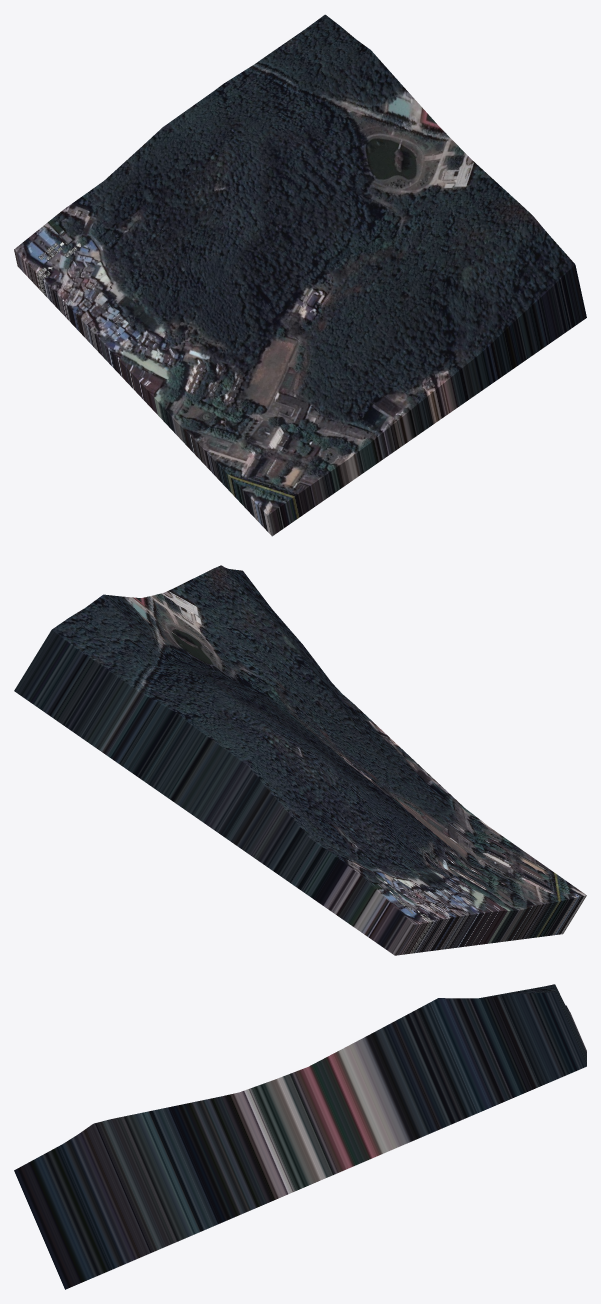
3 views of the same model, one above another, from view 1: azimuth 30°, elevation 25°; view 2: azimuth 150°, elevation 25°; view 3: azimuth 270°, elevation 25° (orthographic). The views are drawn at different scales.
Visible parts, largest first — view 1: 0_0_20; view 2: 0_0_20; view 3: 0_0_20.
Boxes of the visible parts, x1,y1,x2,y2 form: 0_0_20: (14, 14, 586, 536); 0_0_20: (14, 565, 586, 955); 0_0_20: (14, 984, 586, 1289).
Bounding box in the file's own units: 608 × 499 × 595.
Materials: 1 (1 with a texture image).
